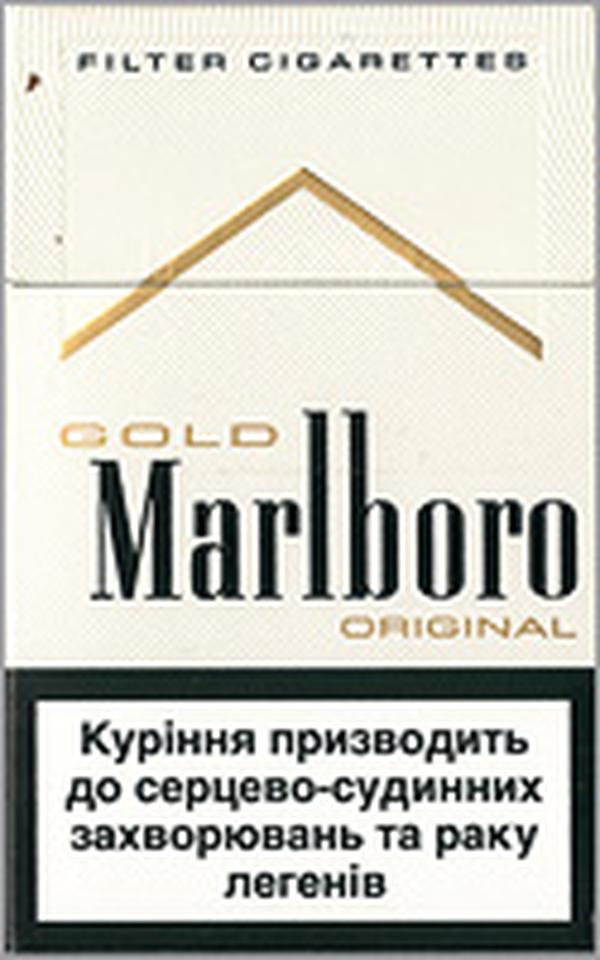marlboro_gold: (6, 6, 595, 960)
